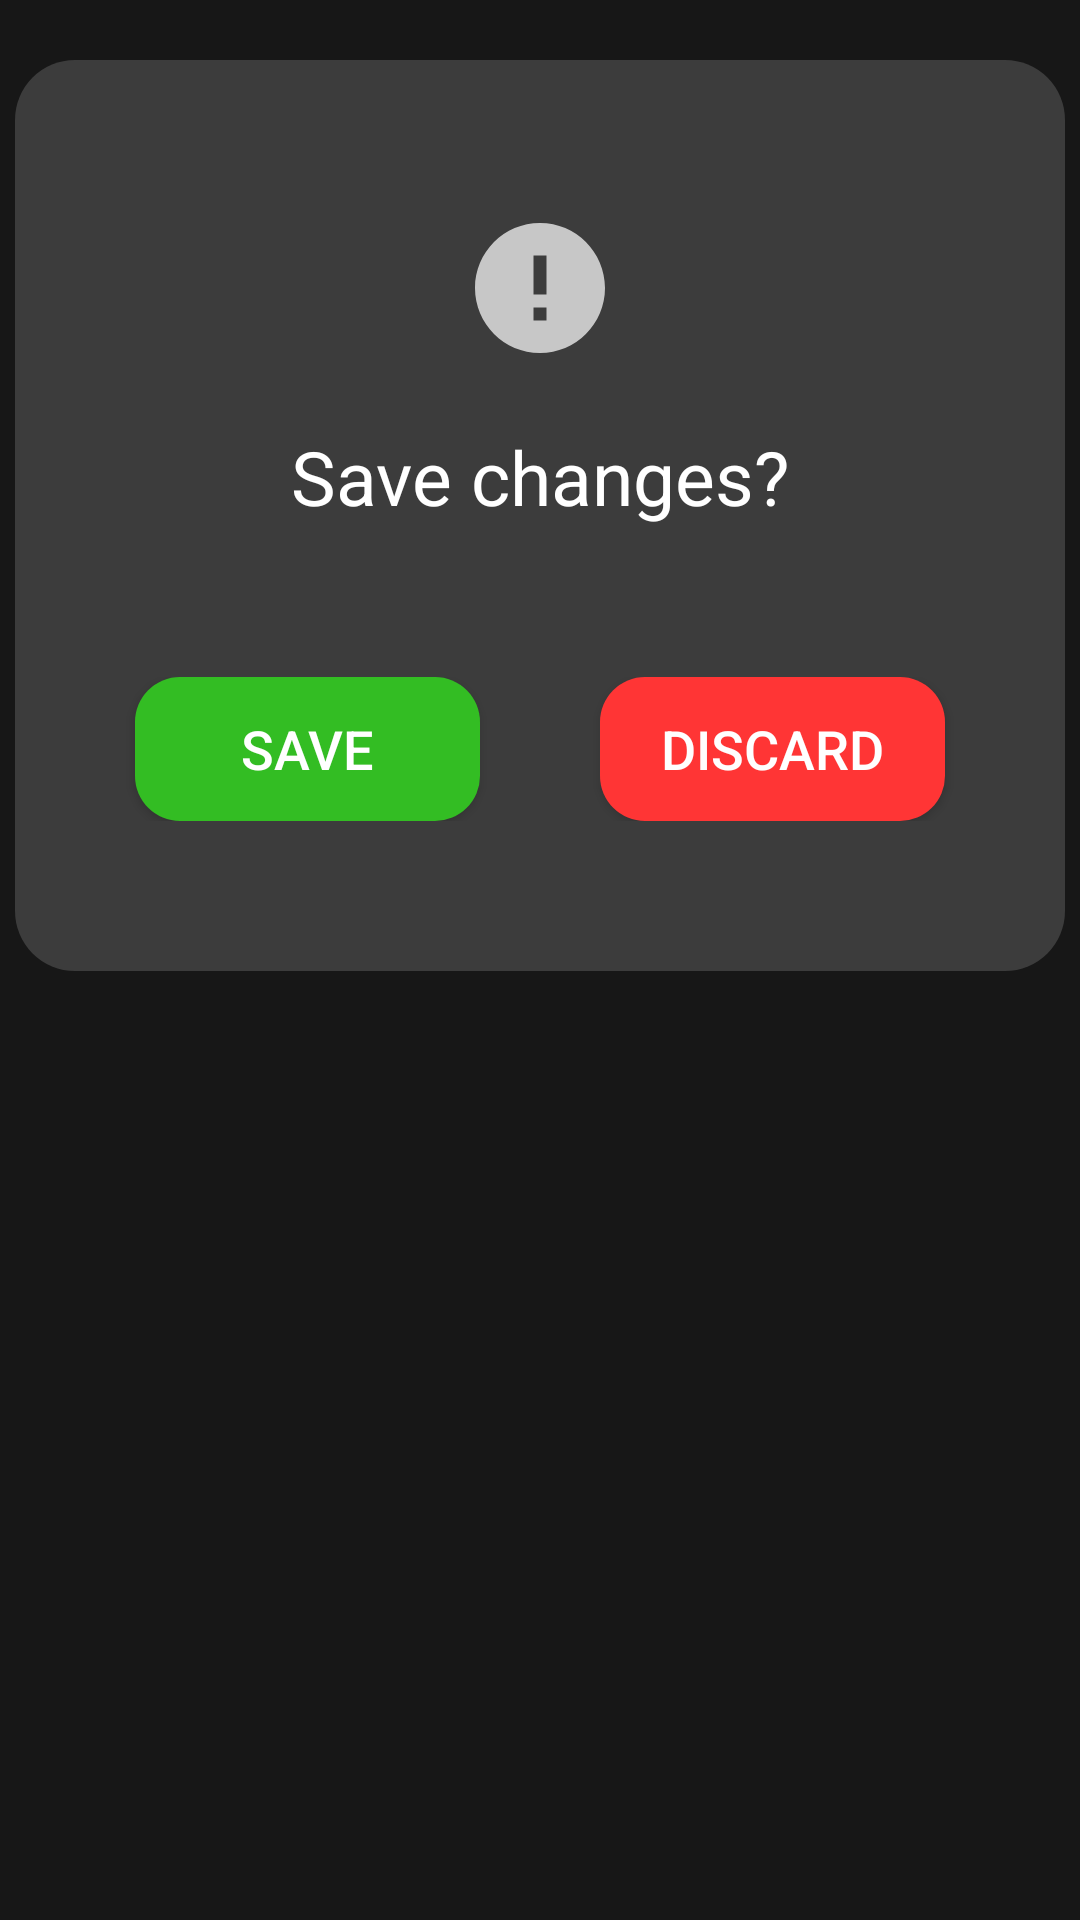

Named icons in this screenshot (1080 x 1920) and their centers, (x,y):
error: (540,288)
